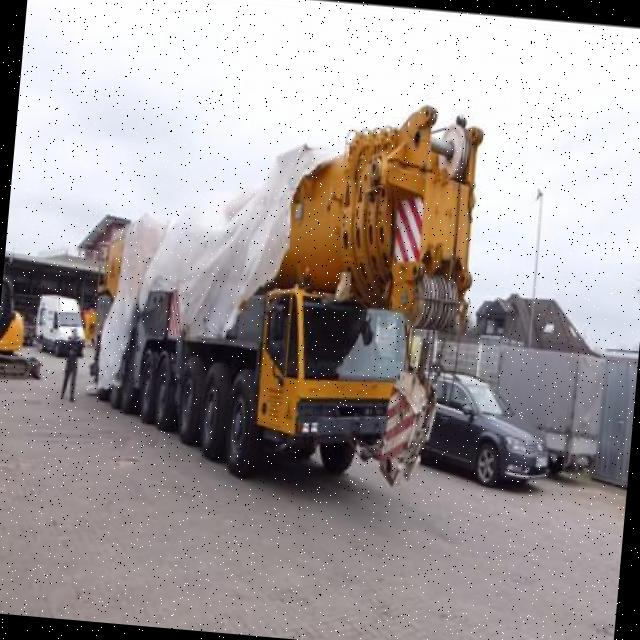Mobile Crane: (80, 80, 483, 492)
